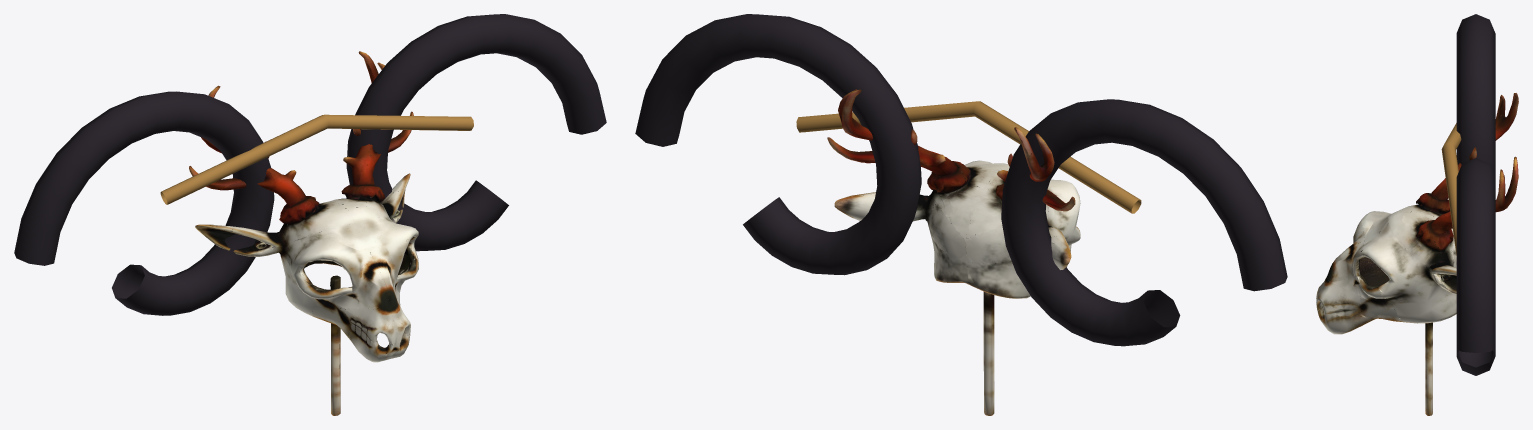
File: mask-ram-reliquary.glb
The picture shows the model from 3 angles, left to right: view 1: azimuth 30°, elevation 25°; view 2: azimuth 150°, elevation 25°; view 3: azimuth 270°, elevation 25°; orthographic projection. The views are drawn at different scales.
Parts seen in each view (by area): view 1: Banquet_Mask_Ram_Reliquary_Mesh_01, Ram_Reliquary_Horn_L, Ram_Reliquary_Horn_R, Ram_Reliquary_Brow; view 2: Ram_Reliquary_Horn_L, Ram_Reliquary_Horn_R, Banquet_Mask_Ram_Reliquary_Mesh_01, Ram_Reliquary_Brow; view 3: Banquet_Mask_Ram_Reliquary_Mesh_01, Ram_Reliquary_Horn_R, Ram_Reliquary_Horn_L, Ram_Reliquary_Brow.
Part boxes in pixels (bbox=[...]): Banquet_Mask_Ram_Reliquary_Mesh_01: bbox=[189, 51, 418, 415]; Ram_Reliquary_Horn_L: bbox=[14, 91, 274, 315]; Ram_Reliquary_Horn_R: bbox=[346, 14, 606, 251]; Ram_Reliquary_Brow: bbox=[160, 114, 473, 204]; Ram_Reliquary_Horn_L: bbox=[1001, 99, 1287, 346]; Ram_Reliquary_Horn_R: bbox=[635, 14, 921, 275]; Banquet_Mask_Ram_Reliquary_Mesh_01: bbox=[827, 89, 1080, 415]; Ram_Reliquary_Brow: bbox=[796, 101, 1141, 213]; Banquet_Mask_Ram_Reliquary_Mesh_01: bbox=[1316, 93, 1518, 415]; Ram_Reliquary_Horn_R: bbox=[1456, 158, 1495, 375]; Ram_Reliquary_Horn_L: bbox=[1456, 14, 1495, 176]; Ram_Reliquary_Brow: bbox=[1441, 123, 1461, 255].
Size of the model in its own units: 0.8088 by 0.4467 by 0.26.
3 materials, 1 textured.
